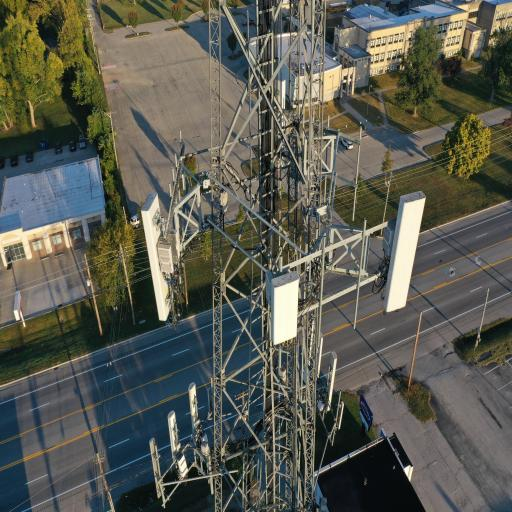supporting_tower: (208, 0, 328, 512)
